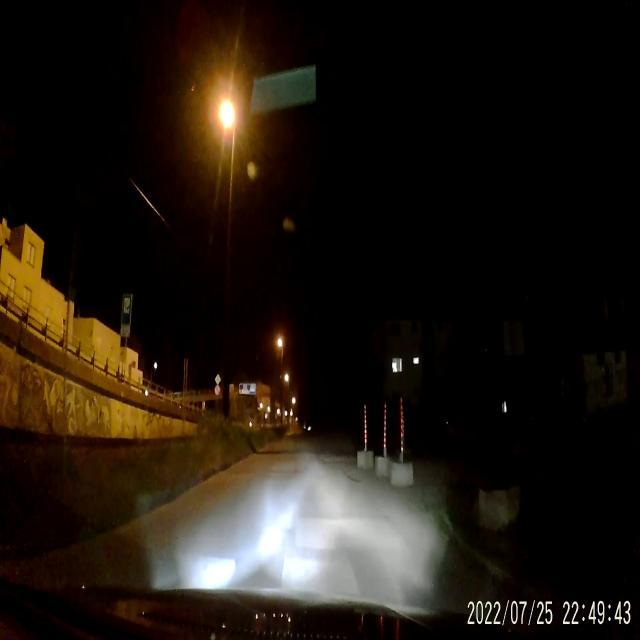Pothole: (270, 466, 296, 476), (346, 471, 364, 484)
